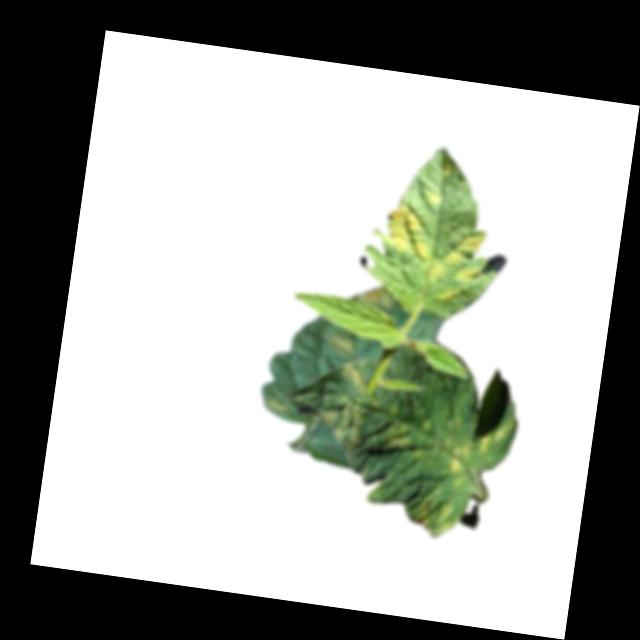Leaf_Mold: (427, 224, 490, 289), (381, 201, 434, 261), (409, 486, 460, 540), (312, 399, 368, 448), (350, 279, 400, 313), (445, 438, 478, 475), (381, 419, 416, 453), (325, 329, 361, 357), (337, 363, 370, 393), (260, 395, 289, 416), (424, 186, 444, 208), (436, 286, 458, 306), (478, 429, 494, 454)
